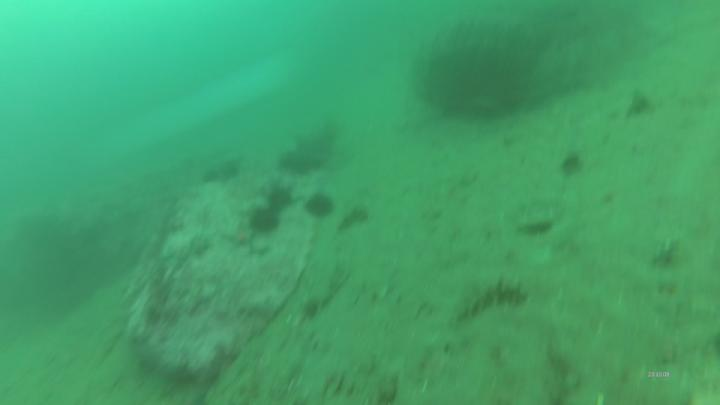echinus: (250, 204, 283, 236), (305, 193, 337, 221)
holothurian: (456, 276, 528, 319)
